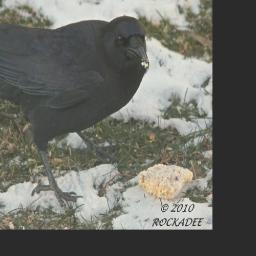Crow: (0, 15, 150, 207)
